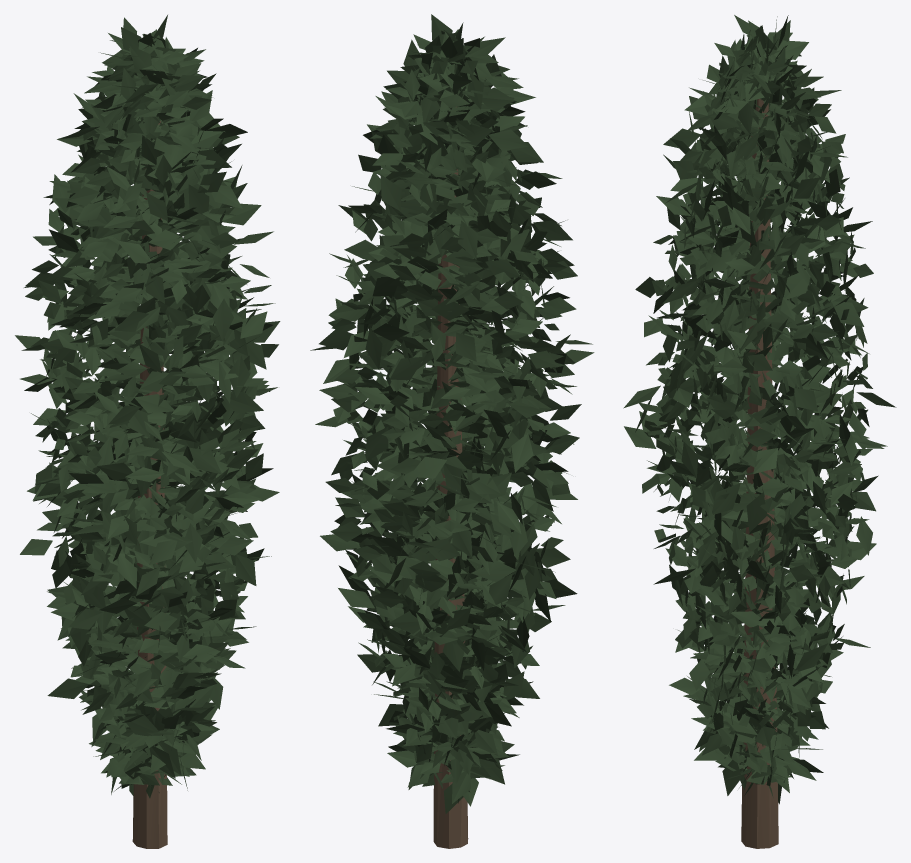
Rendered from italian-cypress.glb.
The picture shows the model from 3 angles, left to right: view 1: azimuth 30°, elevation 25°; view 2: azimuth 150°, elevation 25°; view 3: azimuth 270°, elevation 25°; orthographic projection.
Visible parts, largest first — view 1: italian-cypress; view 2: italian-cypress; view 3: italian-cypress.
Boxes of the visible parts, <box> form: italian-cypress: <box>15,15,280,848</box>; italian-cypress: <box>310,14,594,848</box>; italian-cypress: <box>623,15,896,848</box>.
Bounding box in the file's own units: 2.42 × 8.03 × 2.41.
